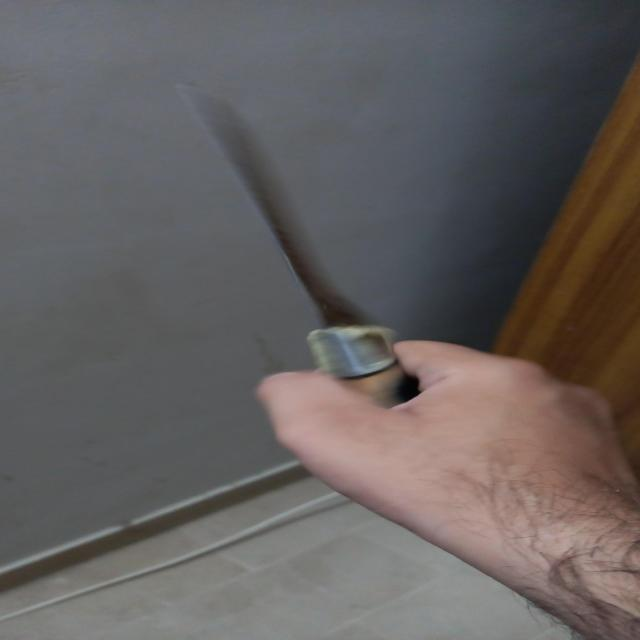Knife: (168, 83, 425, 410)
Person: (260, 339, 640, 640)
